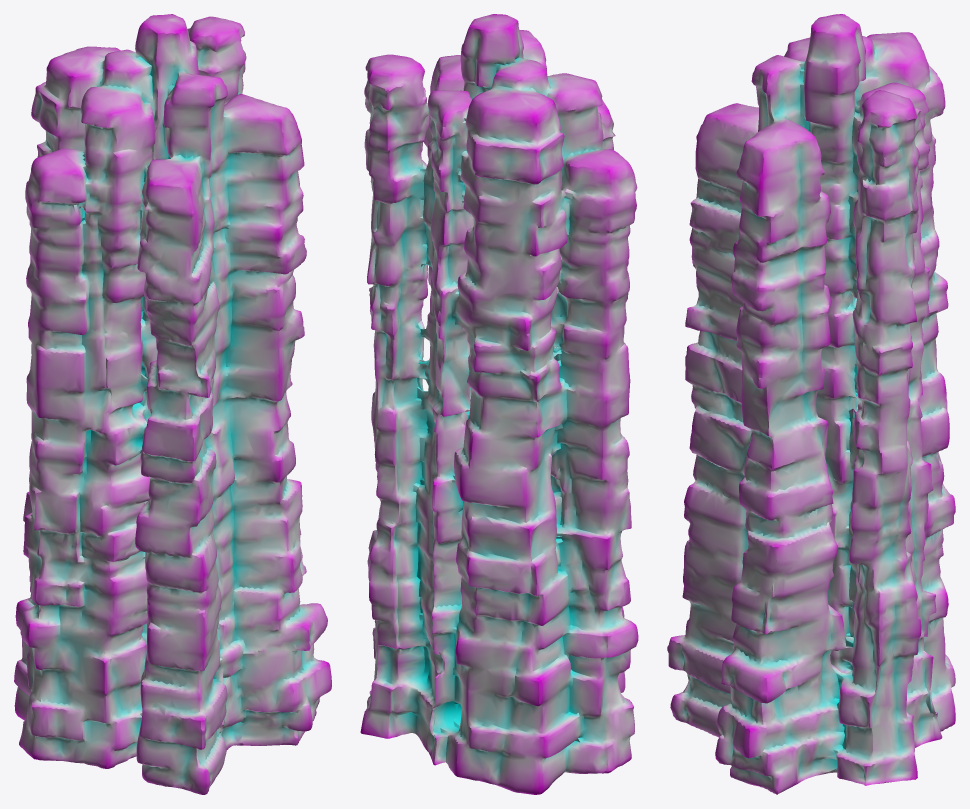
The model's file is Macico_7.fbx.
3 renders of one model, left to right at view 1: azimuth 30°, elevation 25°; view 2: azimuth 150°, elevation 25°; view 3: azimuth 270°, elevation 25°, orthographic.
Visible parts, largest first — view 1: Macico_7; view 2: Macico_7; view 3: Macico_7.
Part boxes in pixels (box(x1,y1,x2,y2)): Macico_7: box(14, 14, 331, 794); Macico_7: box(360, 14, 638, 794); Macico_7: box(667, 14, 955, 794).
Size of the model in its own units: 120 by 306 by 111.
